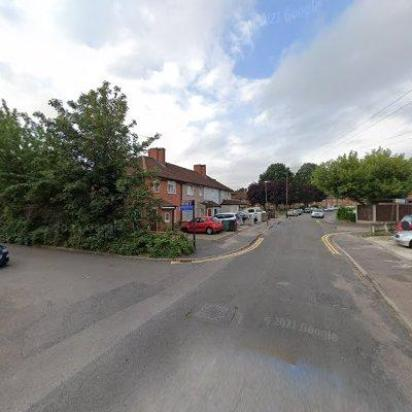moving-car: (0, 239, 10, 268)
stationary-car-offstreet: (180, 216, 224, 236), (211, 212, 239, 228), (392, 228, 412, 248)
stationary-car-onstreet: (312, 208, 324, 218), (288, 208, 298, 218), (304, 206, 310, 214)
stationary-light-truck-offstreet: (246, 206, 266, 218)
